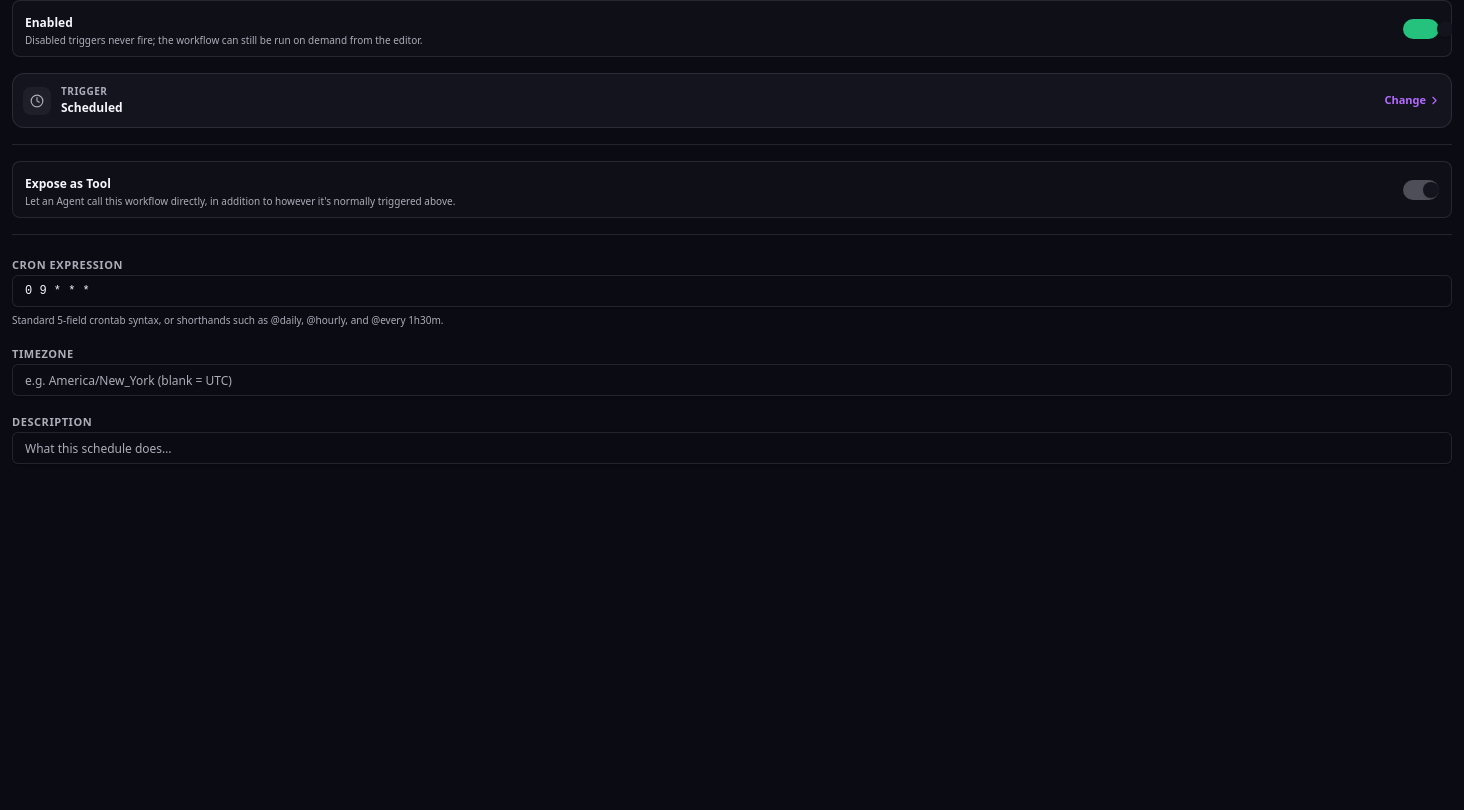
Scenario: TriggerForm — trigger type summary › picking a new plain mode applies it via setMode (preserving its stale-field-clear behavior) and closes the picker
The width and height of the screenshot is (1464, 810).
What coordinates should you click on to do the following:
click the text "Change"
I would click on:
 (1413, 101)
Its box is [1384,92,1441,109].
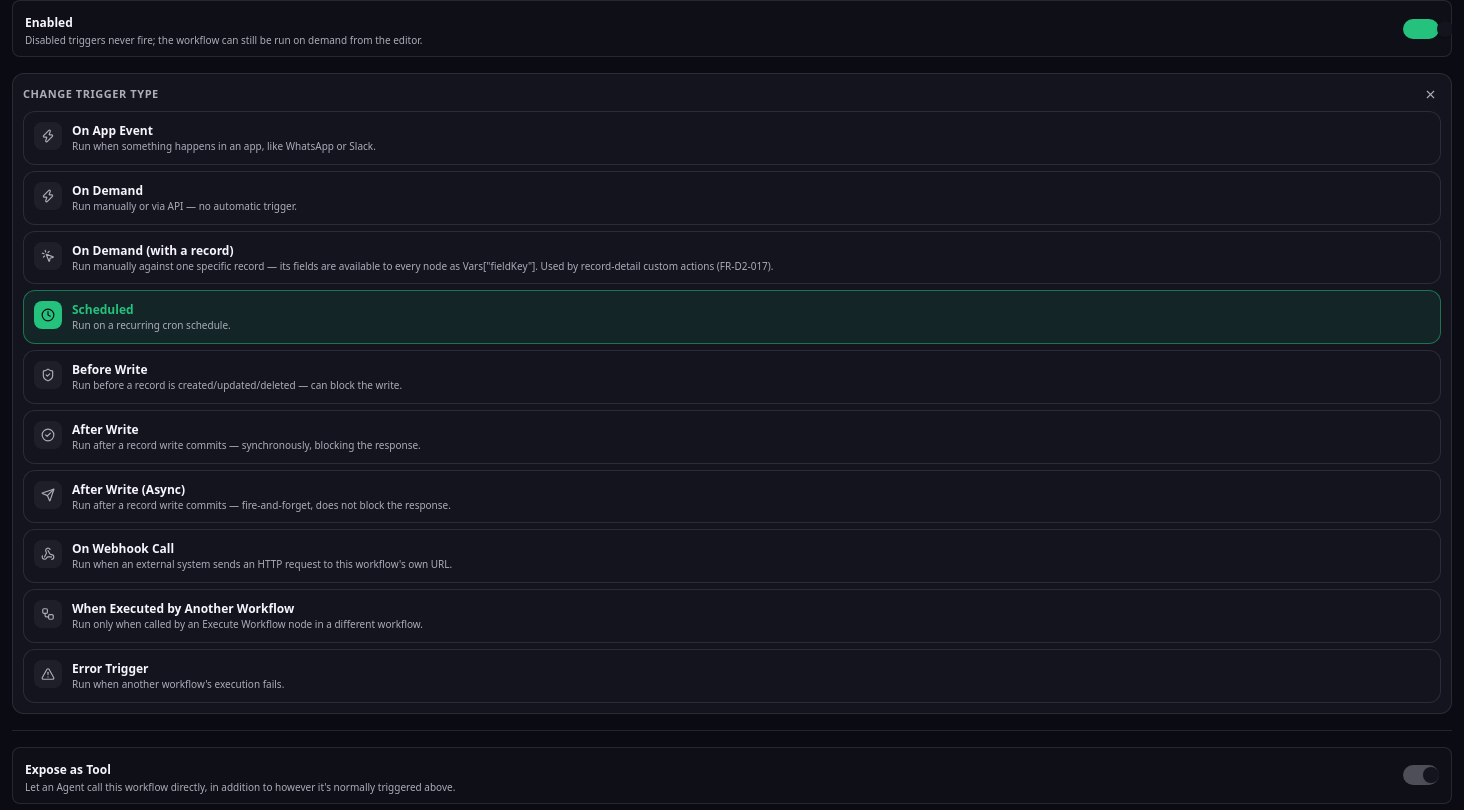
What coordinates should you click on to do the following:
click the text "Before Write"
I would click on:
 (110, 370)
Its box is [72,361,148,378].
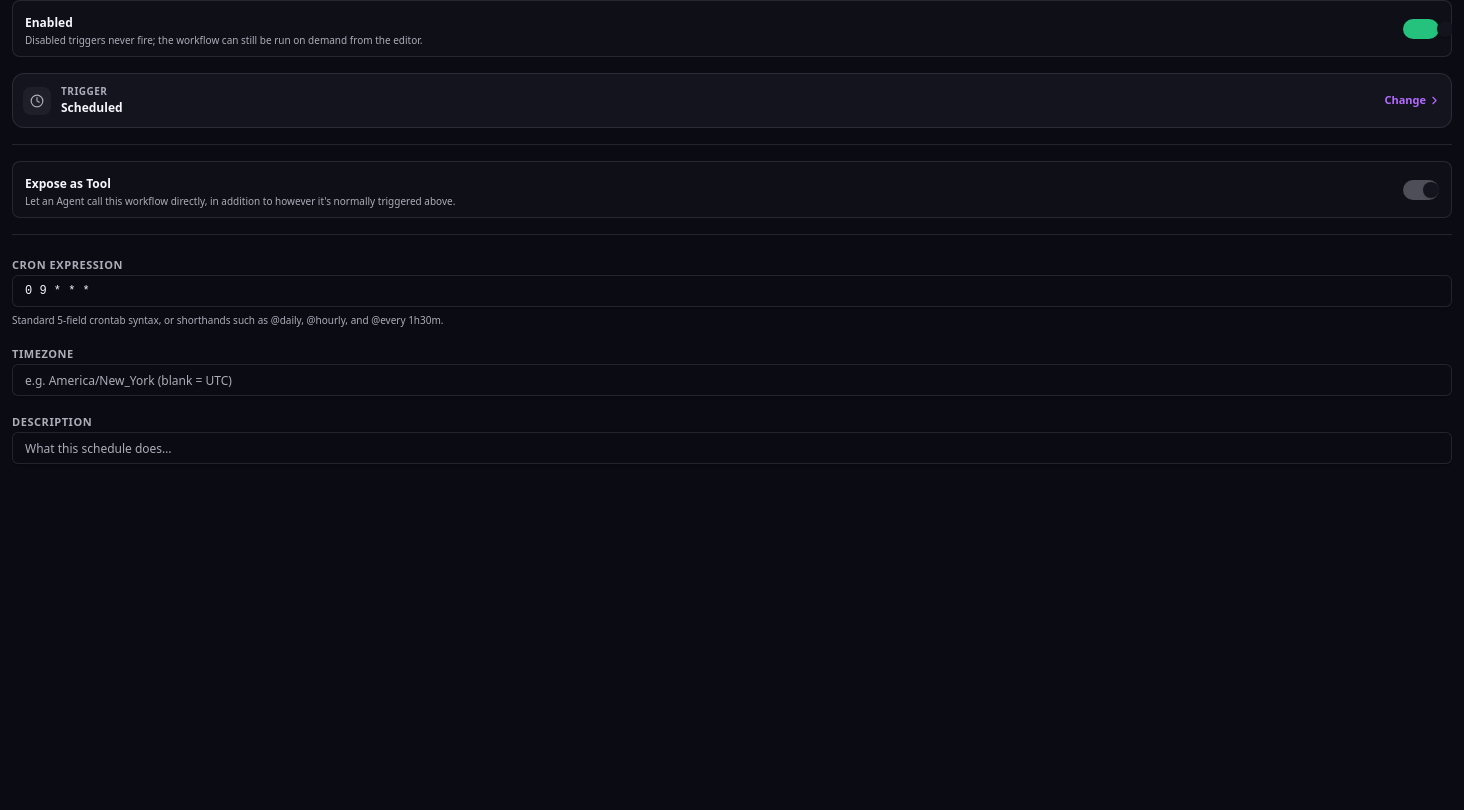
Check: the button "Error Trigger" is gone
